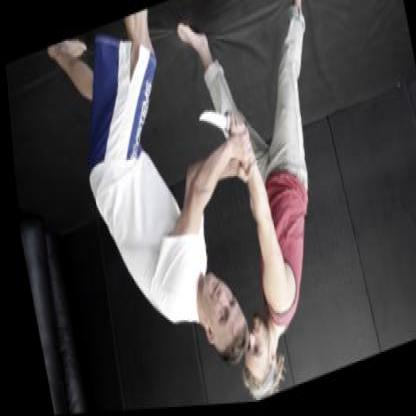knife: (191, 94, 248, 148)
